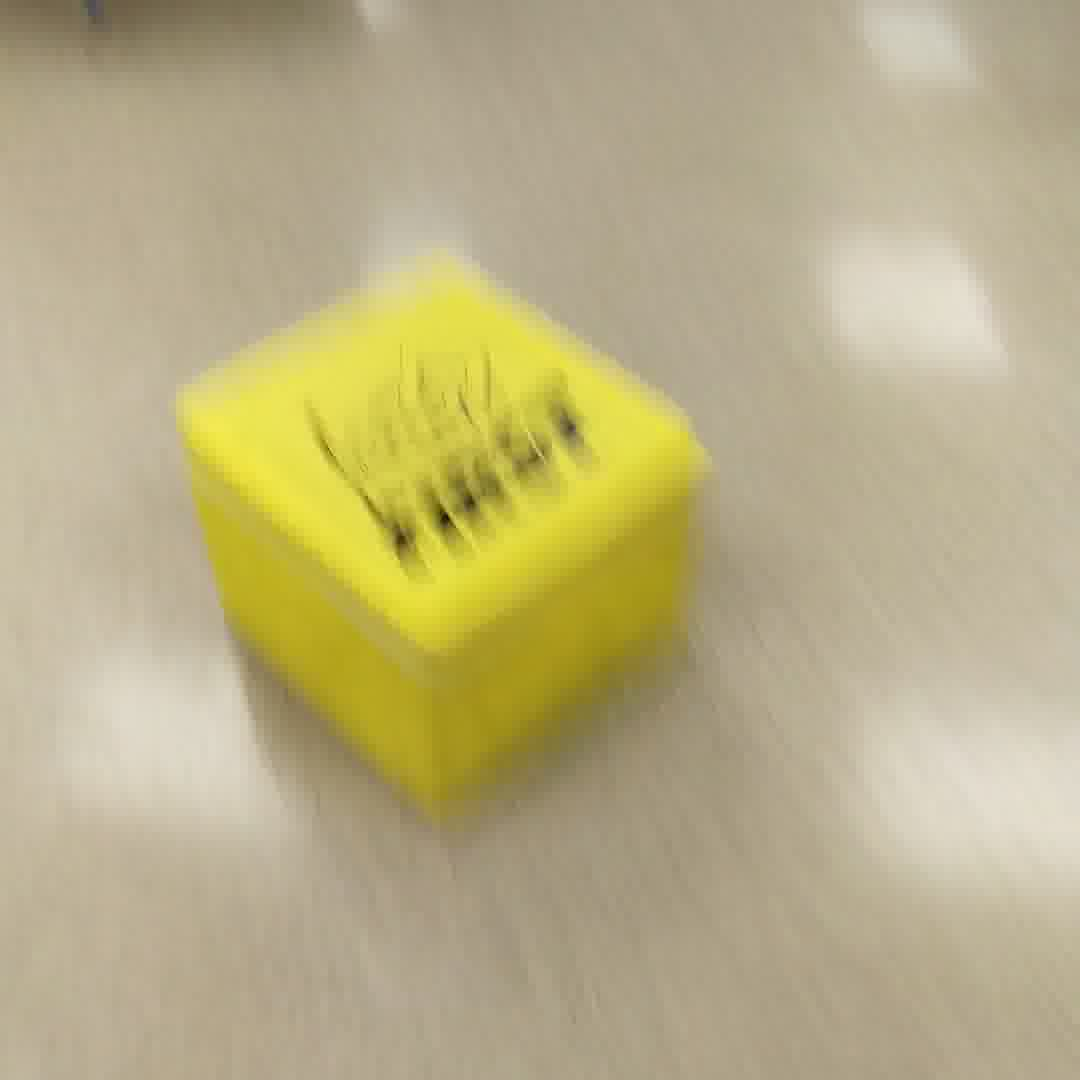box: (176, 264, 708, 811)
